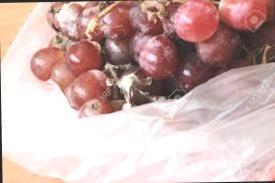Grape Rotten: (27, 0, 274, 119)
